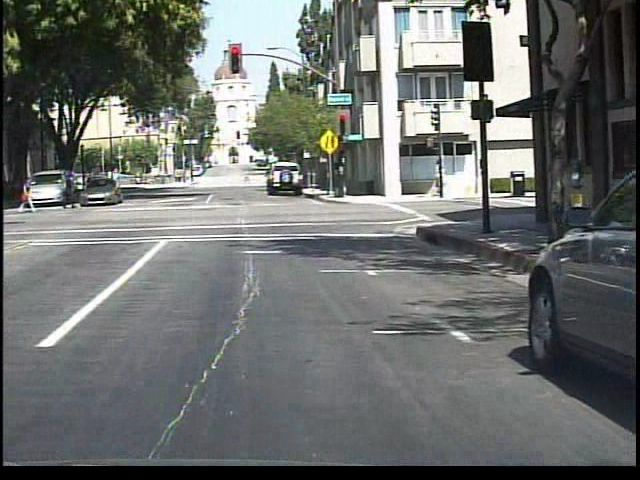person: (56, 170, 78, 215), (16, 177, 38, 216), (241, 170, 250, 187)
